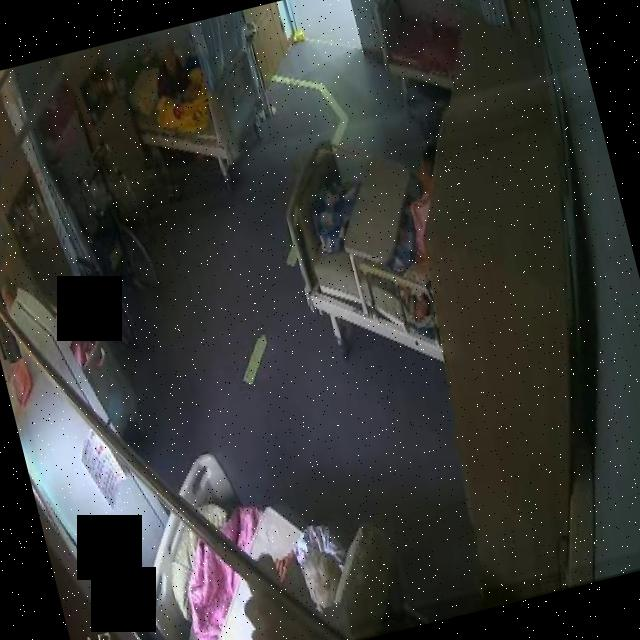bed: (115, 414, 404, 640), (272, 120, 468, 377), (120, 30, 275, 176), (365, 0, 473, 101)
